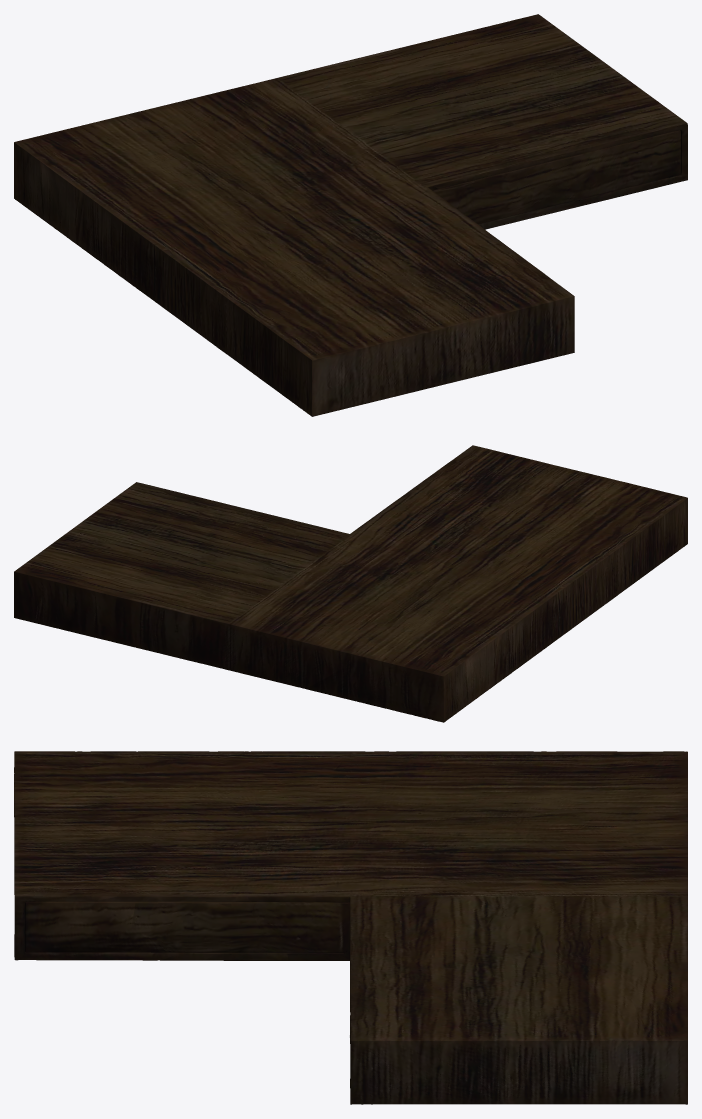
The model's file is desk.glb.
The picture shows the model from 3 angles, top to bottom: view 1: azimuth 30°, elevation 25°; view 2: azimuth 150°, elevation 25°; view 3: azimuth 270°, elevation 25°; orthographic projection. The views are drawn at different scales.
Parts seen in each view (by area): view 1: model; view 2: model; view 3: model.
Part boxes in pixels (x1,y1,x2,y2): model: [14, 14, 687, 416]; model: [14, 445, 687, 722]; model: [14, 751, 687, 1104].
Bounding box in the file's own units: 1.9 × 0.1967 × 1.87.
Materials: 1 (1 with a texture image).
